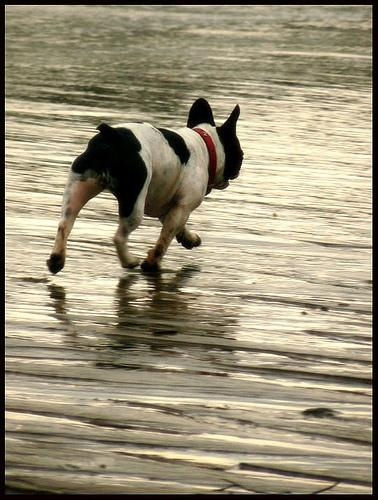dog: (45, 89, 248, 284)
